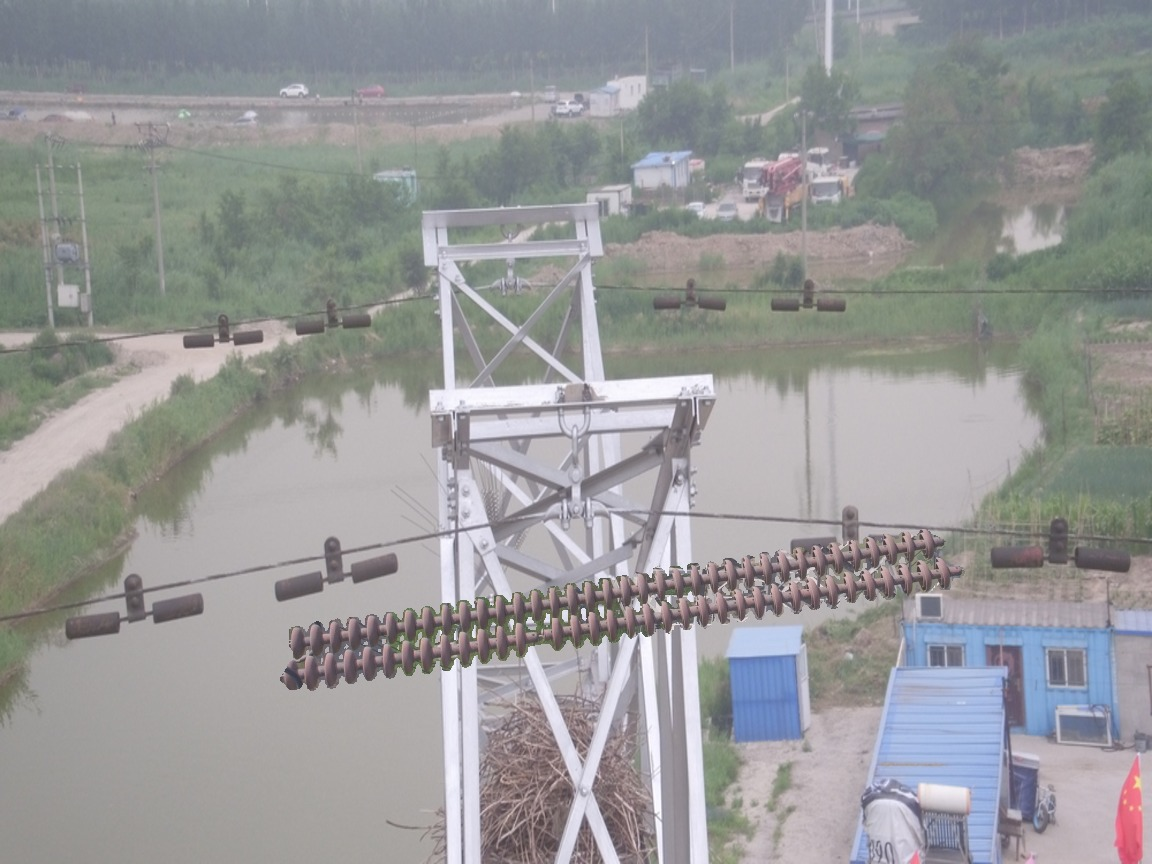defect: (505, 613, 573, 662)
